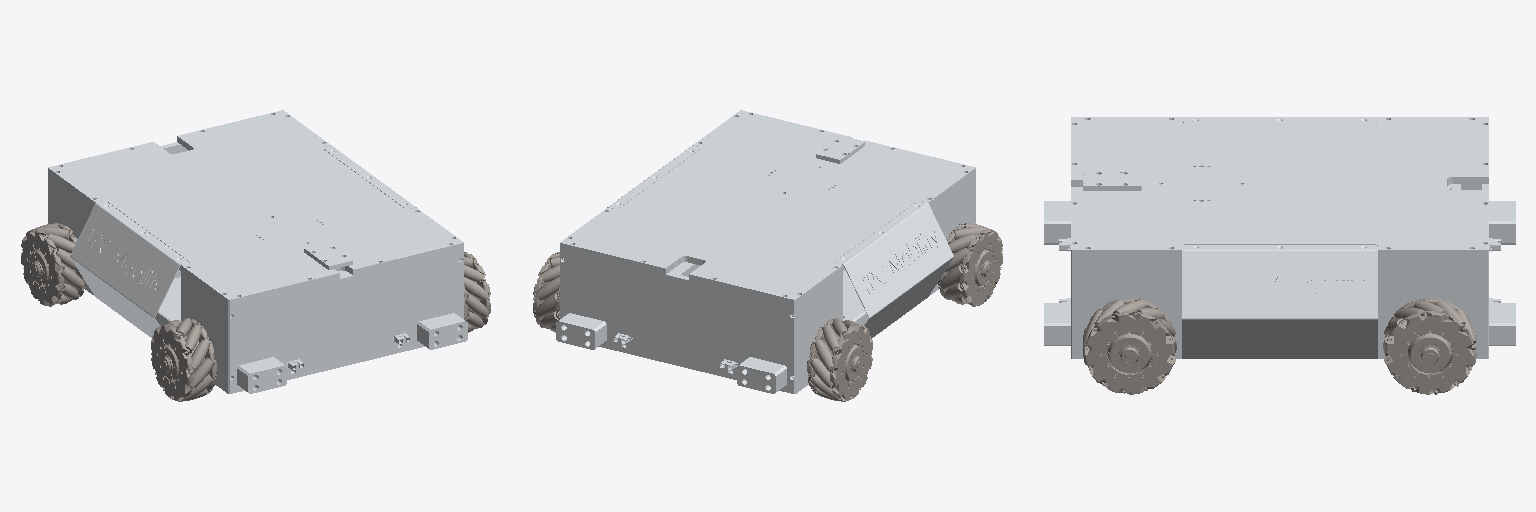
The robot description file, URDF, robot "tpc_mobile":
<?xml version="1.0" encoding="utf-8"?>
<!-- This URDF was automatically created by SolidWorks to URDF Exporter! Originally created by [author] ([email redacted])
     Commit Version: 1.5.1-0-g916b5db  Build Version: 1.5.7152.31018
     For more information, please see http://wiki.ros.org/sw_urdf_exporter -->
<robot
  name="tpc_mobile">
  <link name="base_footprint"/>
  <joint name = "base_joint" type="fixed">
    <parent link = "base_footprint"/>
    <child link = "base_link"/>
    <origin xyz = "0 0 0.010" rpy = "0 0 0"/>
  </joint>
  <link name="base_link">
    <inertial>
      <origin
        xyz="0.0120927150245829 0.106921966129387 -0.0501769155351696"
        rpy="0 0 0" />
      <mass
        value="74.612046426388" />
      <inertia
        ixx="5.47500132297565"
        ixy="0.0178883923983695"
        ixz="0.0574622362327499"
        iyy="7.17876390443724"
        iyz="-0.0848732174187489"
        izz="2.82590668549308" />
    </inertial>
    <visual>
      <origin
        xyz="0 0 0"
        rpy="0 0 0" />
      <geometry>
        <mesh
          filename="package://tpc_mobile_description/meshes/mobile/base_link.STL" />
      </geometry>
      <material
        name="">
        <color
          rgba="0.898039215686275 0.917647058823529 0.929411764705882 1" />
      </material>
    </visual>
    <collision>
      <origin
        xyz="0 0 0"
        rpy="0 0 0" />
      <geometry>
        <mesh
          filename="package://tpc_mobile_description/meshes/mobile/base_link.STL" />
      </geometry>
    </collision>
  </link>

  <joint name="fr_left_wheel_joint" type="continuous">
    <origin
      xyz="0.3495 -0.287 0.05"
      rpy="1.5707963267949 0 0" />
    <parent
      link="base_link" />
    <child
      link="fr_left_wheel_link" />
    <axis
      xyz="1 0 0" />
  </joint>
  <link name="fr_left_wheel_link">
    <inertial>
      <origin
        xyz="0 0 0"
        rpy="0 0 0" />
      <mass
        value="4.33590963632227" />
      <inertia
        ixx="0.0176981035324359"
        ixy="-2.94870304124652E-07"
        ixz="-4.42979461687766E-09"
        iyy="0.0112841497948592"
        iyz="-6.73288157761417E-10"
        izz="0.0112841717903316" />
    </inertial>
    <visual>
      <origin
        xyz="0 0 0"
        rpy="0 0 0" />
      <geometry>
        <mesh
          filename="package://tpc_mobile_description/meshes/mobile/fr_left_wheel_link.STL" />
      </geometry>
      <material
        name="">
        <color
          rgba="0.686274509803922 0.658823529411765 0.63921568627451 1" />
      </material>
    </visual>
    <collision>
      <origin
        xyz="0 0 0"
        rpy="0 0 0" />
      <geometry>
        <mesh
          filename="package://tpc_mobile_description/meshes/mobile/fr_left_wheel_link.STL" />
      </geometry>
    </collision>
  </link>

  <joint name="fr_right_wheel_joint" type="continuous">
    <origin
      xyz="-0.3495 -0.287 0.0500000000000001"
      rpy="1.5707963267949 0 3.14159265358979" />
    <parent
      link="base_link" />
    <child
      link="fr_right_wheel_link" />
    <axis
      xyz="-1 0 0" />
  </joint>
  <link name="fr_right_wheel_link">
    <inertial>
      <origin
        xyz="0.000555635327337989 -6.92925583321846E-07 1.74224749110996E-06"
        rpy="0 0 0" />
      <mass
        value="6.17811527090236" />
      <inertia
        ixx="0.0269359902916775"
        ixy="-3.07055496963113E-07"
        ixz="6.57121411481947E-09"
        iyy="0.0173277806795012"
        iyz="-1.48194959304277E-10"
        izz="0.0173278258813899" />
    </inertial>
    <visual>
      <origin
        xyz="0 0 0"
        rpy="0 0 0" />
      <geometry>
        <mesh
          filename="package://tpc_mobile_description/meshes/mobile/fr_right_wheel_link.STL" />
      </geometry>
      <material
        name="">
        <color
          rgba="0.686274509803922 0.658823529411765 0.63921568627451 1" />
      </material>
    </visual>
    <collision>
      <origin
        xyz="0 0 0"
        rpy="0 0 0" />
      <geometry>
        <mesh
          filename="package://tpc_mobile_description/meshes/mobile/fr_right_wheel_link.STL" />
      </geometry>
    </collision>
  </link>

  <joint name="rr_left_wheel_joint" type="continuous">
    <origin
      xyz="0.3495 0.287 0.05"
      rpy="1.5707963267949 0 0" />
    <parent
      link="base_link" />
    <child
      link="rr_left_wheel_link" />
    <axis
      xyz="1 0 0" />
  </joint>
  <link name="rr_left_wheel_link">
    <inertial>
      <origin
        xyz="0.000555636107377688 -6.92709553738735E-07 1.74278912390413E-06"
        rpy="0 0 0" />
      <mass
        value="6.17811533675191" />
      <inertia
        ixx="0.0269359905011406"
        ixy="-3.06946707282074E-07"
        ixz="6.43701516295571E-09"
        iyy="0.0173277810497043"
        iyz="-1.21551298052357E-10"
        izz="0.0173278258317422" />
    </inertial>
    <visual>
      <origin
        xyz="0 0 0"
        rpy="0 0 0" />
      <geometry>
        <mesh
          filename="package://tpc_mobile_description/meshes/mobile/rr_left_wheel_link.STL" />
      </geometry>
      <material
        name="">
        <color
          rgba="0.686274509803922 0.658823529411765 0.63921568627451 1" />
      </material>
    </visual>
    <collision>
      <origin
        xyz="0 0 0"
        rpy="0 0 0" />
      <geometry>
        <mesh
          filename="package://tpc_mobile_description/meshes/mobile/rr_left_wheel_link.STL" />
      </geometry>
    </collision>
  </link>

  <joint name="rr_right_wheel_joint" type="continuous">
    <origin
      xyz="-0.3495 0.287 0.05"
      rpy="1.5707963267949 0 3.14159265358979" />
    <parent
      link="base_link" />
    <child
      link="rr_right_wheel_link" />
    <axis
      xyz="-1 0 0" />
  </joint>
  <link name="rr_right_wheel_link">
    <inertial>
      <origin
        xyz="0.000346711534812749 -9.55608986691336E-07 1.77275715773639E-08"
        rpy="0 0 0" />
      <mass
        value="4.33590963632227" />
      <inertia
        ixx="0.0176981035324359"
        ixy="-2.94870304133278E-07"
        ixz="-4.42979462853889E-09"
        iyy="0.0112841497948592"
        iyz="-6.73288160750513E-10"
        izz="0.0112841717903316" />
    </inertial>
    <visual>
      <origin
        xyz="0 0 0"
        rpy="0 0 0" />
      <geometry>
        <mesh
          filename="package://tpc_mobile_description/meshes/mobile/rr_right_wheel_link.STL" />
      </geometry>
      <material
        name="">
        <color
          rgba="0.686274509803922 0.658823529411765 0.63921568627451 1" />
      </material>
    </visual>
    <collision>
      <origin
        xyz="0 0 0"
        rpy="0 0 0" />
      <geometry>
        <mesh
          filename="package://tpc_mobile_description/meshes/mobile/rr_right_wheel_link.STL" />
      </geometry>
    </collision>
  </link>

  <joint name="imu_joint" type="fixed">
    <origin
      xyz="0 0 0"
      rpy="0 0 -3.14159265358979" />
    <parent
      link="base_link" />
    <child
      link="imu_link" />
    <axis
      xyz="0 0 0" />
  </joint>
  <link name="imu_link">
    <inertial>
      <origin
        xyz="-2.30441111959726E-08 -6.16283038051961E-07 0.019948798622652"
        rpy="0 0 0" />
      <mass
        value="0.0117804617116584" />
      <inertia
        ixx="1.24424778618368E-06"
        ixy="1.92239989053571E-12"
        ixz="1.36019571723451E-12"
        iyy="1.24427423107387E-06"
        iyz="3.63163770754019E-11"
        izz="2.29188401372467E-06" />
    </inertial>
    <visual>
      <origin
        xyz="0 0 0"
        rpy="0 0 0" />
      <geometry>
        <mesh
          filename="package://tpc_mobile_description/meshes/mobile/imu_link.STL" />
      </geometry>
      <material
        name="">
        <color
          rgba="0.631372549019608 0.588235294117647 0.509803921568627 1" />
      </material>
    </visual>
    <collision>
      <origin
        xyz="0 0 0"
        rpy="0 0 0" />
      <geometry>
        <mesh
          filename="package://tpc_mobile_description/meshes/mobile/imu_link.STL" />
      </geometry>
    </collision>
  </link>

  <joint
    name="lidar_joint"
    type="fixed">
    <!--<origin
      xyz="-0.0128411617909521 -0.401095076137313 0.247303963631305"
      rpy="1.5707963267949 0 -1.56143748001795" />-->
    <origin
        xyz="0 -0.33 0.26"
        rpy="0 0 -1.5707963267949" />
    <parent
      link="base_link" />
    <child
      link="lidar_link" />
    <axis
      xyz="0 0 0" />
  </joint>
  <link
    name="lidar_link">
    <inertial>
      <origin
        xyz="-0.423900964027476 -0.128670344187783 -0.0173074417735623"
        rpy="0 0 0" />
      <mass
        value="104.627670689358" />
      <inertia
        ixx="7.02508200066988"
        ixy="-1.30027634117536"
        ixz="-0.6108584226253"
        iyy="13.0892399888305"
        iyz="-0.253008067332665"
        izz="10.1215957977667" />
    </inertial>
    <visual>
      <origin
          xyz="0 0 0"
          rpy="-1.5707963267949 0 0" />
      <!--<origin
        xyz="0 0 0"
        rpy="0 0 0" />-->
      <geometry>
        <mesh
          filename="package://tpc_mobile_description/meshes/mobile/lidar_link.STL" />
      </geometry>
      <material
        name="">
        <color
          rgba="0.792156862745098 0.819607843137255 0.933333333333333 1" />
      </material>
    </visual>
    <collision>
      <origin
        xyz="0 0 0"
        rpy="0 0 0" />
      <geometry>
        <mesh
          filename="package://tpc_mobile_description/meshes/mobile/lidar_link.STL" />
      </geometry>
    </collision>
  </link>

</robot>

--- What the picture shows (computed from the rendered views, not written in the file) ---
3 views of the same robot in one strip: view 1: azimuth 30°, elevation 25°; view 2: azimuth 150°, elevation 25°; view 3: azimuth 270°, elevation 25° (orthographic).
Model tpc_mobile with 8 links and 7 joints (4 continuous, 3 fixed), rooted at base_footprint, posed every joint at zero.
Links seen in each view (by area): view 1: base_link, fr_right_wheel_link, rr_right_wheel_link, fr_left_wheel_link; view 2: base_link, rr_right_wheel_link, fr_right_wheel_link, rr_left_wheel_link; view 3: base_link, rr_left_wheel_link, fr_left_wheel_link.
Boxes of the visible links, left/top/right/bottom form: base_link: left=46, top=110, right=467, bottom=393; fr_right_wheel_link: left=151, top=318, right=216, bottom=401; rr_right_wheel_link: left=21, top=223, right=86, bottom=306; fr_left_wheel_link: left=464, top=252, right=490, bottom=332; base_link: left=556, top=110, right=977, bottom=393; rr_right_wheel_link: left=807, top=318, right=872, bottom=401; fr_right_wheel_link: left=937, top=223, right=1002, bottom=306; rr_left_wheel_link: left=533, top=252, right=559, bottom=332; base_link: left=1044, top=117, right=1515, bottom=358; rr_left_wheel_link: left=1383, top=298, right=1476, bottom=394; fr_left_wheel_link: left=1083, top=298, right=1176, bottom=394.
Size in the robot's own frame: 0.798 by 0.9 by 0.28 metres.
5 mesh visuals loaded from 7 distinct referenced files (5 binary STL); not drawn: 2 (reference not matched to a file when rendering).
